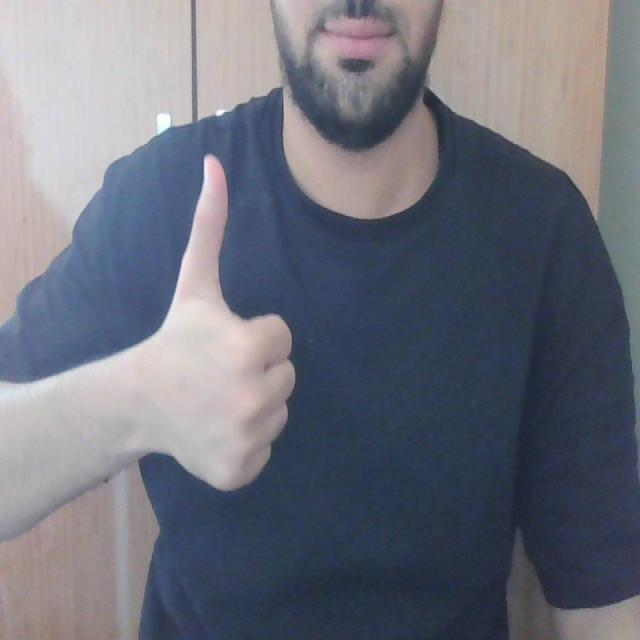Tamam: (138, 147, 302, 500)
